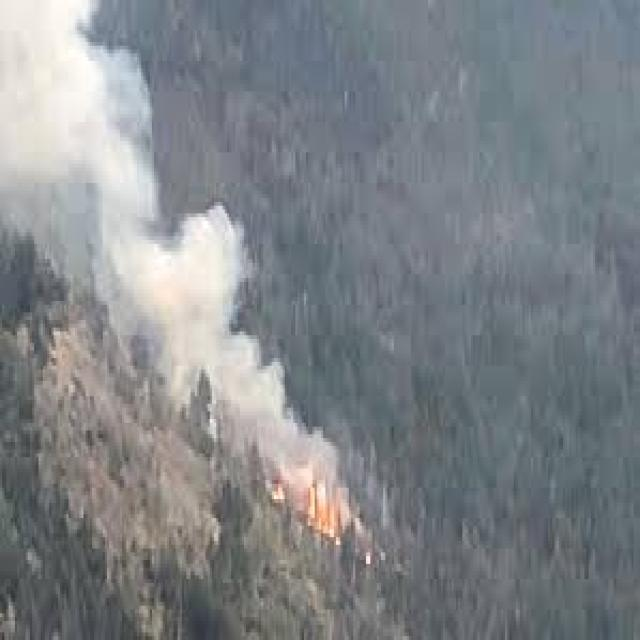Fire: (260, 407, 397, 588)
Smoke: (119, 190, 282, 440), (1, 46, 161, 300), (0, 0, 165, 185), (124, 200, 258, 410)
